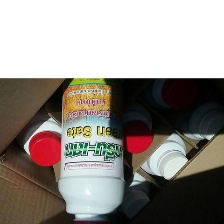insecticide: (58, 64, 126, 224), (87, 134, 156, 222), (3, 92, 70, 170), (102, 79, 161, 159), (126, 113, 192, 183), (168, 86, 223, 146), (137, 60, 197, 113)
